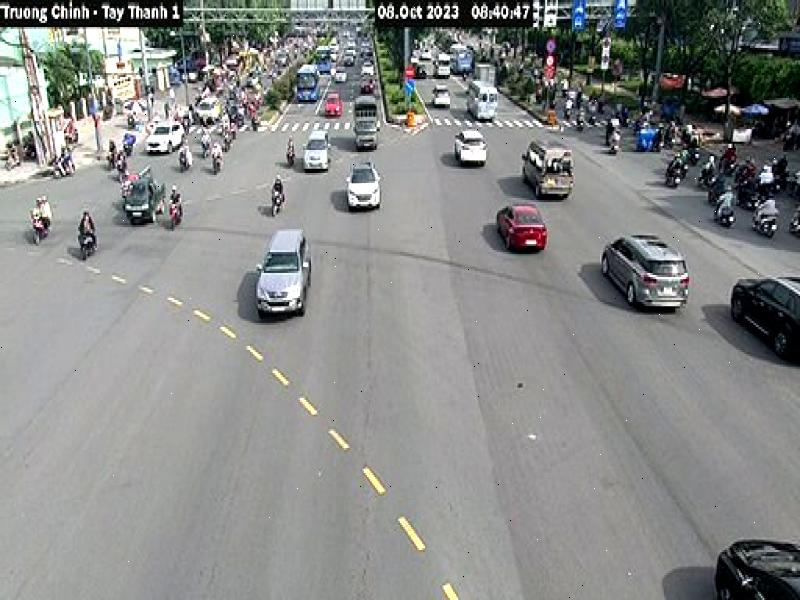car: (602, 234, 692, 314), (729, 271, 800, 367), (712, 535, 800, 600), (254, 231, 311, 321), (523, 136, 574, 200), (496, 202, 549, 256), (346, 154, 383, 214), (456, 130, 488, 167)
truck: (352, 92, 380, 152)
